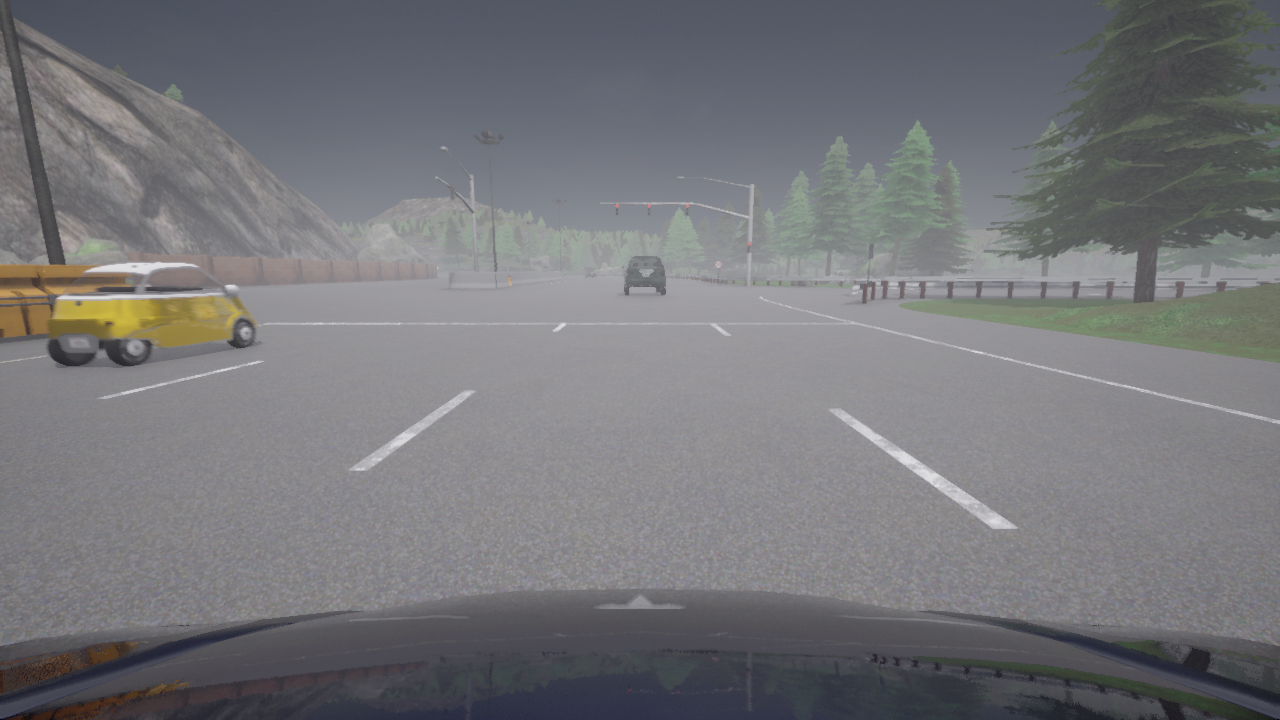cyclist: (0, 588, 1279, 719), (46, 262, 258, 366), (621, 255, 666, 295), (586, 269, 596, 278)
